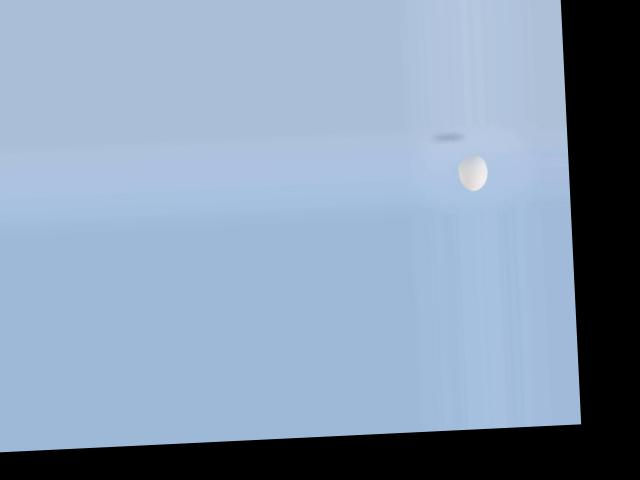egg: (457, 153, 489, 191)
